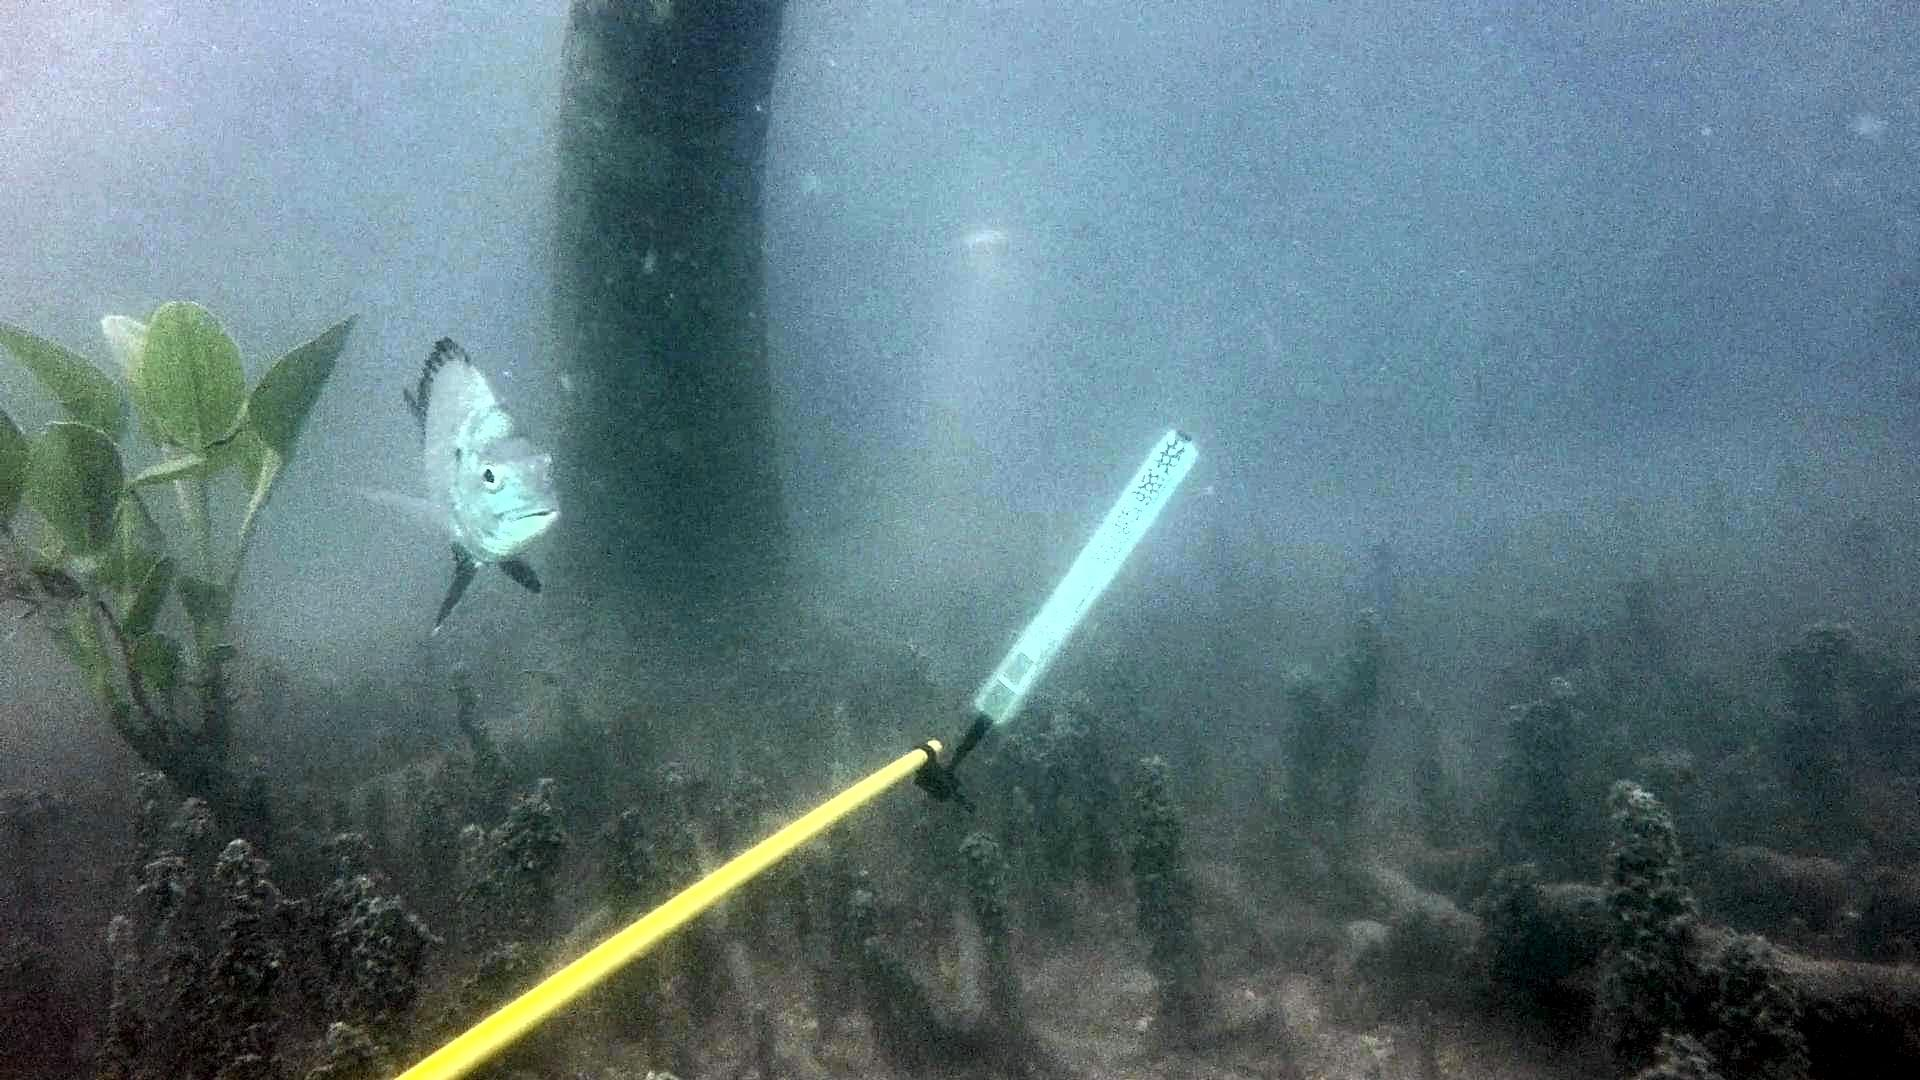acanthopagrus palmaris: (357, 326, 574, 629)
